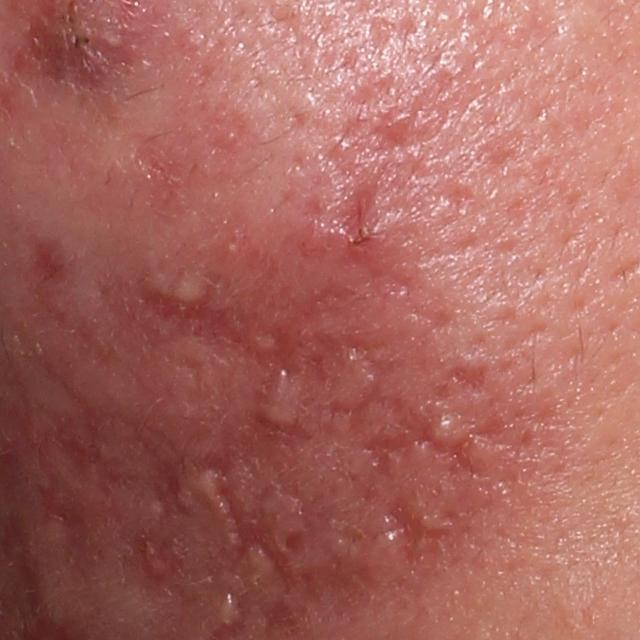atrophic_scar: (314, 327, 507, 487), (139, 284, 311, 380), (194, 451, 296, 595), (19, 239, 118, 367), (296, 549, 379, 618), (388, 498, 462, 568), (340, 180, 381, 241), (248, 410, 309, 442), (259, 600, 300, 640), (444, 361, 492, 392), (306, 352, 334, 386)
hypertrophic_scar: (174, 269, 209, 305), (189, 469, 223, 503), (212, 592, 235, 629)
